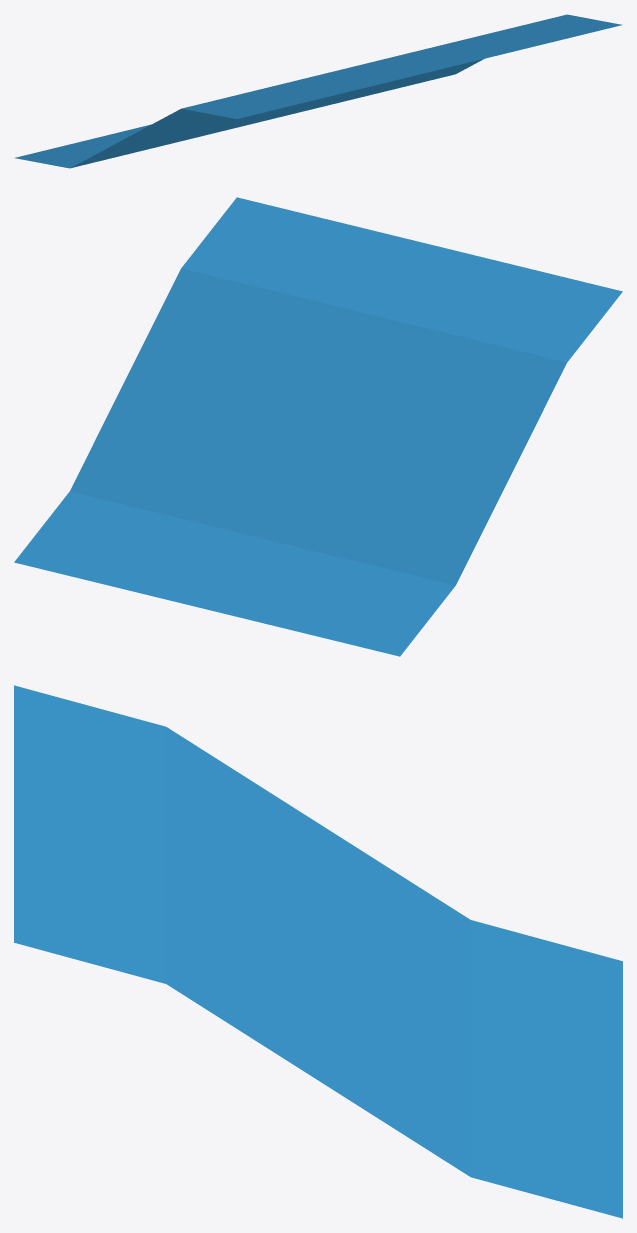
Rendered from Hilly_Terrain_Water_Slope.fbx.
3 renders of one model, top to bottom at view 1: azimuth 30°, elevation 25°; view 2: azimuth 150°, elevation 25°; view 3: azimuth 270°, elevation 25°, orthographic. The views are drawn at different scales.
Parts seen in each view (by area): view 1: object1; view 2: object1; view 3: object1.
Part boxes in pixels (left/top/right/bottom): object1: left=15, top=14, right=621, bottom=168; object1: left=14, top=197, right=622, bottom=656; object1: left=14, top=685, right=622, bottom=1218.
Size of the model in its own units: 2 by 1 by 2.
